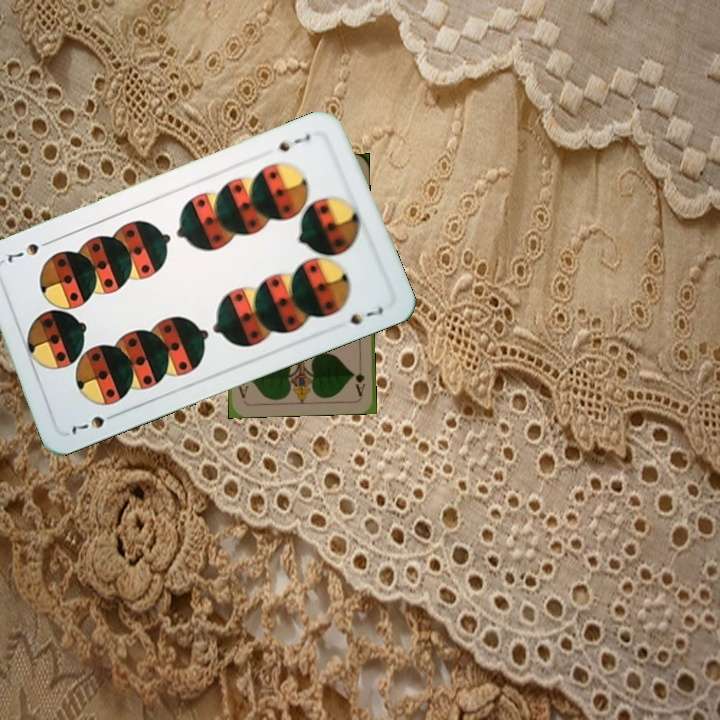GA: (351, 357, 368, 398)
S7: (67, 408, 122, 438), (274, 129, 313, 155)
